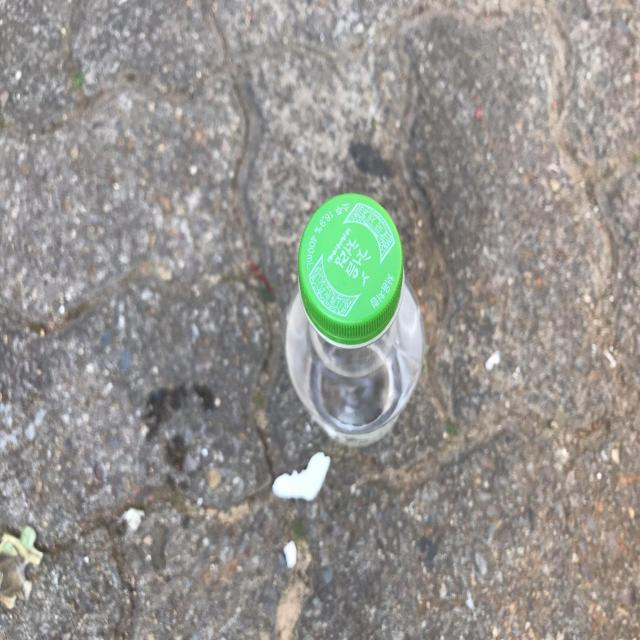plastic: (286, 193, 425, 445)
